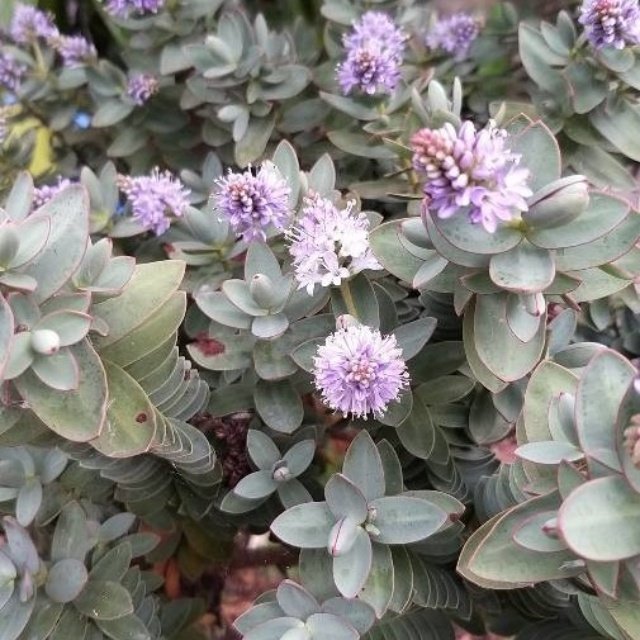obstacle: (143, 128, 414, 422), (6, 165, 222, 493), (394, 95, 601, 395), (473, 366, 631, 613), (272, 444, 464, 625)
